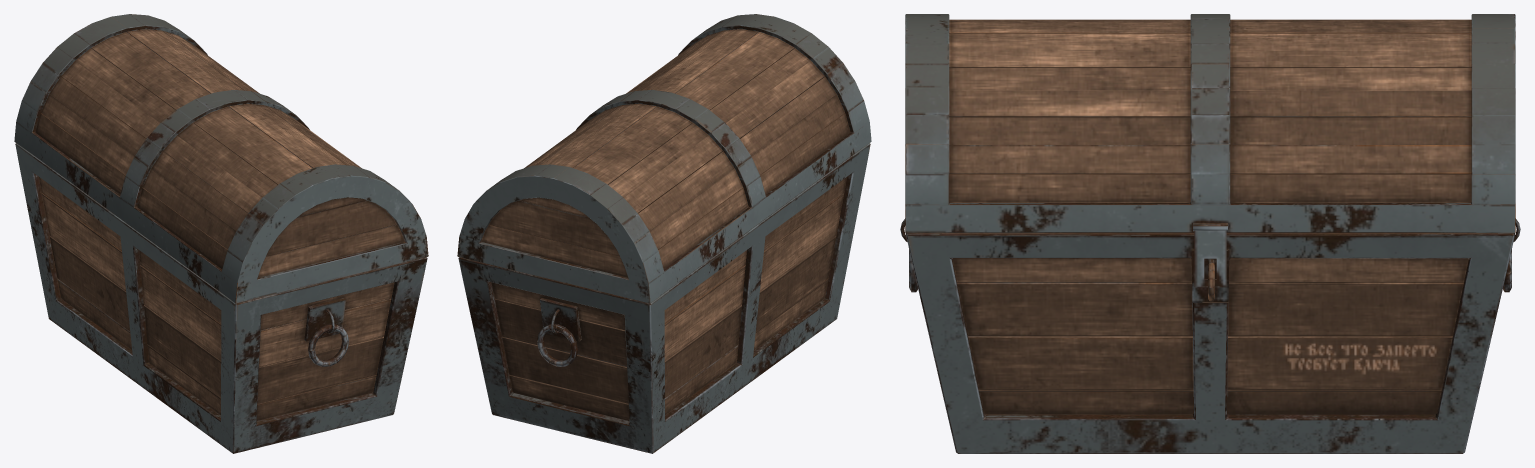
File: chest.glb
The picture shows the model from 3 angles, left to right: view 1: azimuth 30°, elevation 25°; view 2: azimuth 150°, elevation 25°; view 3: azimuth 270°, elevation 25°; orthographic projection. The views are drawn at different scales.
Parts seen in each view (by area): view 1: Treasure Chest; view 2: Treasure Chest; view 3: Treasure Chest.
Part boxes in pixels (bbox=[...]): Treasure Chest: bbox=[14, 14, 428, 453]; Treasure Chest: bbox=[457, 14, 871, 453]; Treasure Chest: bbox=[900, 14, 1520, 453].
Bounding box in the file's own units: 2.66 × 3.32 × 5.01.
1 material, 1 textured.
